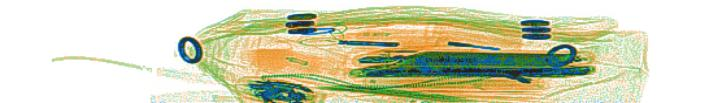plasticBottleWithaNozzle: (237, 36, 346, 78), (332, 13, 441, 49)
